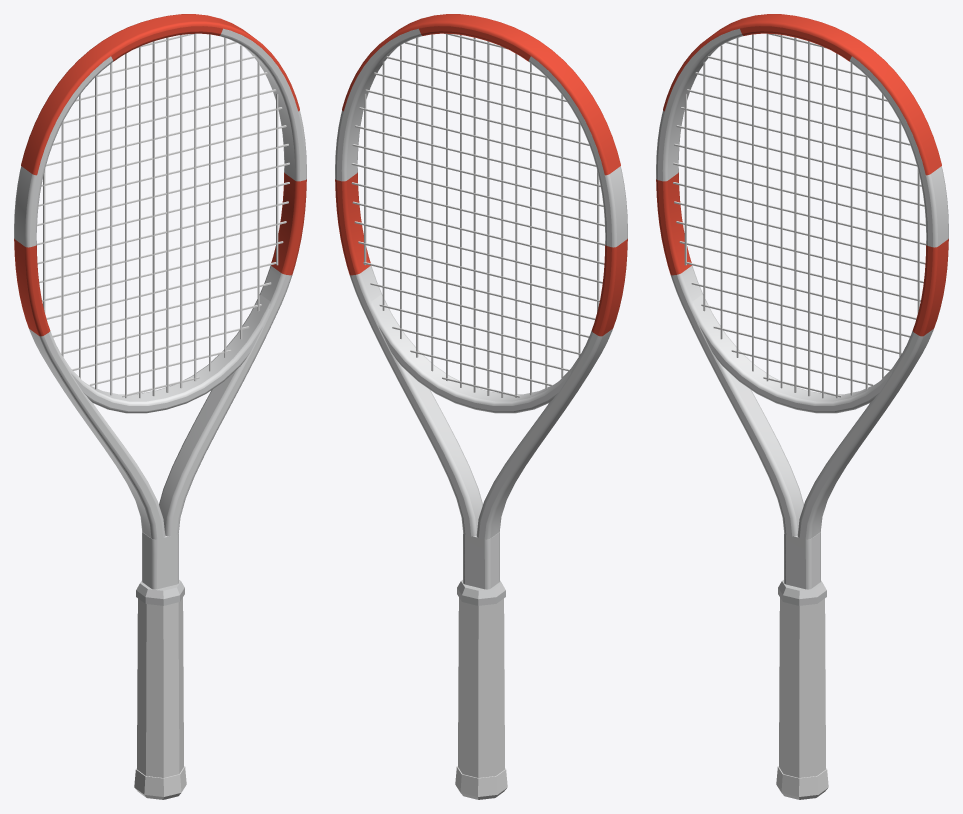
File: babolat-pure-strike-98-16x19-2019.glb
3 views of the same model, side by side, from view 1: azimuth 30°, elevation 25°; view 2: azimuth 150°, elevation 25°; view 3: azimuth 330°, elevation 25° (orthographic).
Parts seen in each view (by area): view 1: frame, strings_mains, strings_crosses, grip, bumper, butt_cap, collar; view 2: frame, strings_mains, strings_crosses, grip, bumper, butt_cap, collar; view 3: frame, strings_mains, strings_crosses, grip, bumper, butt_cap, collar.
Part boxes in pixels (bbox=[...]): frame: bbox=[14, 26, 306, 589]; strings_mains: bbox=[43, 33, 278, 398]; strings_crosses: bbox=[37, 34, 289, 397]; grip: bbox=[137, 598, 183, 777]; bumper: bbox=[21, 14, 299, 175]; butt_cap: bbox=[134, 766, 186, 799]; collar: bbox=[136, 580, 184, 605]; frame: bbox=[335, 26, 627, 589]; strings_mains: bbox=[364, 34, 599, 397]; strings_crosses: bbox=[351, 33, 604, 397]; grip: bbox=[458, 598, 504, 777]; bumper: bbox=[342, 14, 620, 175]; butt_cap: bbox=[455, 766, 507, 799]; collar: bbox=[457, 580, 505, 605]; frame: bbox=[656, 26, 948, 589]; strings_mains: bbox=[684, 33, 919, 398]; strings_crosses: bbox=[673, 34, 925, 397]; grip: bbox=[779, 598, 825, 777]; bumper: bbox=[663, 14, 941, 175]; butt_cap: bbox=[776, 766, 828, 799]; collar: bbox=[778, 580, 826, 605].
Size of the model in its own units: 0.2634 by 0.6861 by 0.0396.
